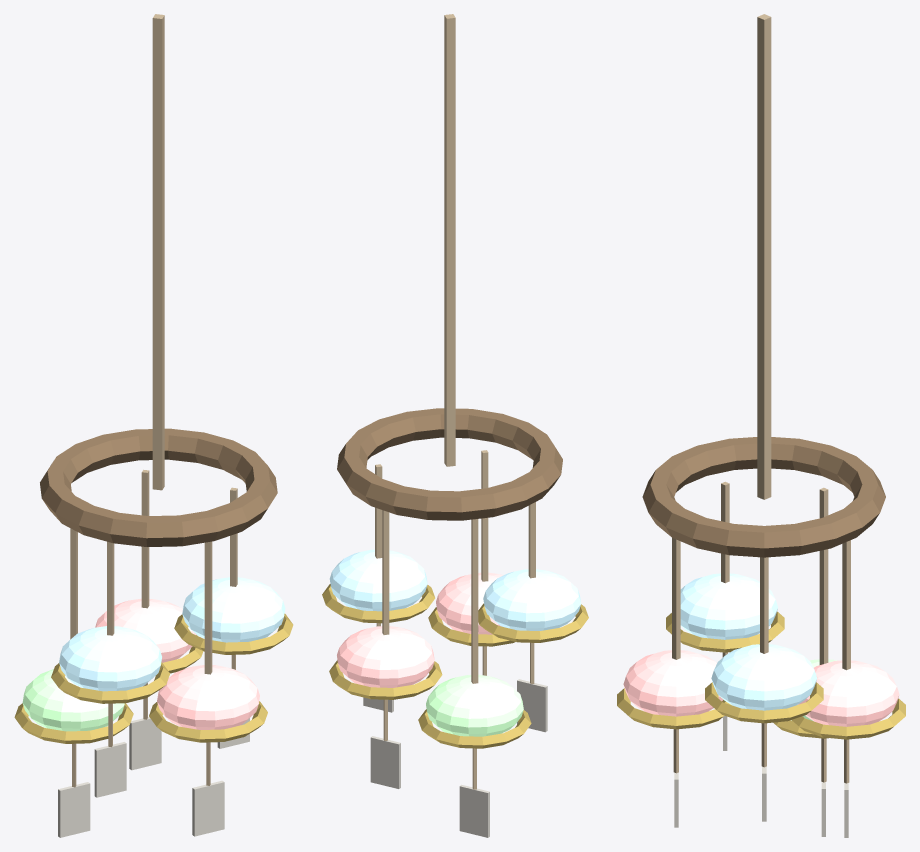
File: wind_chime_set.glb
3 views of the same model, side by side, from view 1: azimuth 30°, elevation 25°; view 2: azimuth 150°, elevation 25°; view 3: azimuth 270°, elevation 25° (orthographic). The views are drawn at different scales.
Parts seen in each view (by area): view 1: wind_chime_set; view 2: wind_chime_set; view 3: wind_chime_set.
Boxes of the visible parts, left/top/right/bottom form: wind_chime_set: left=14, top=14, right=293, bottom=837; wind_chime_set: left=322, top=14, right=588, bottom=837; wind_chime_set: left=617, top=14, right=905, bottom=837.
Bounding box in the file's own units: 0.3277 × 1.05 × 0.3274.
